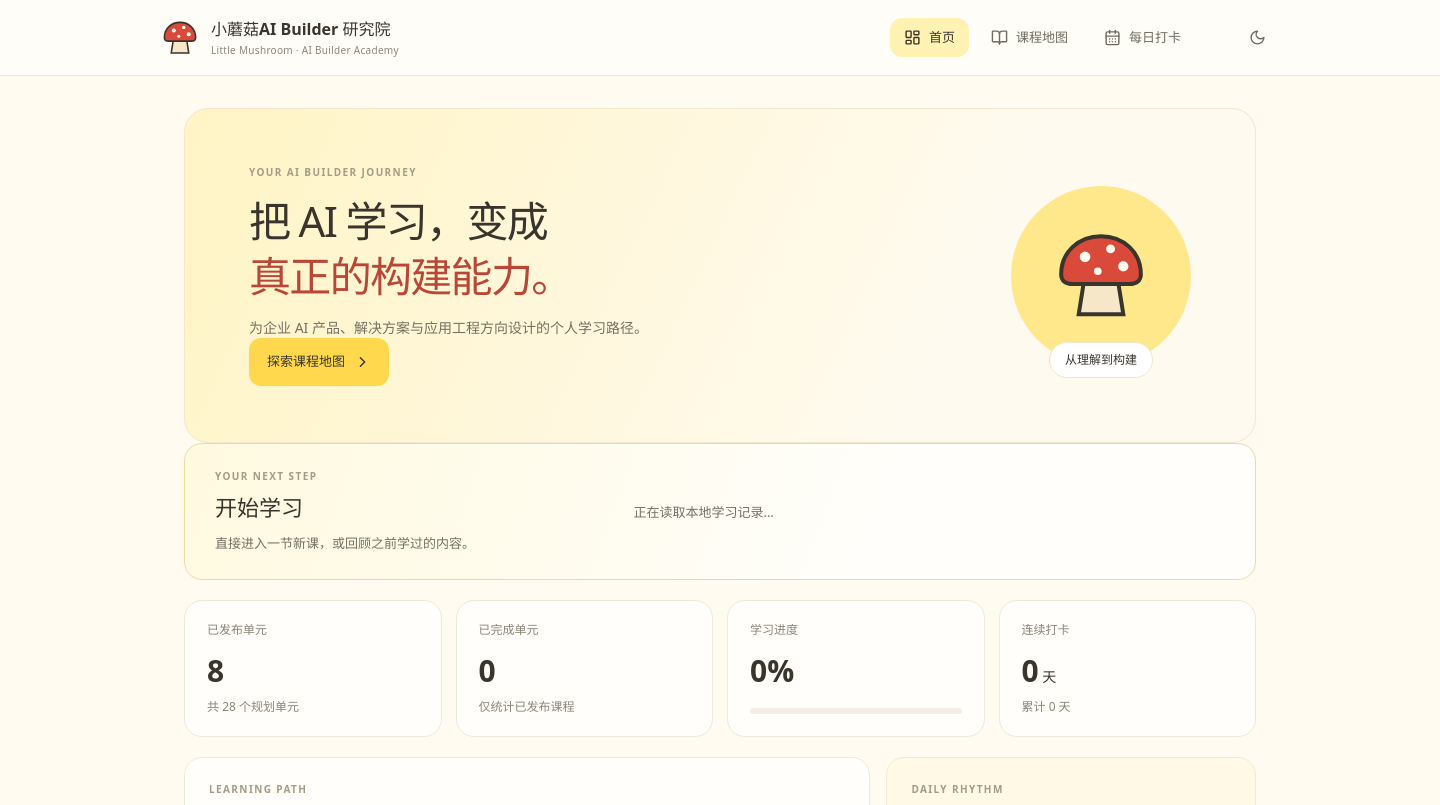
Test: learning and check-in logic › navigates with hash routes to published lesson content
The width and height of the screenshot is (1440, 805).
Click the link "课程地图" at (1030, 37), box [991,28,1068,46]
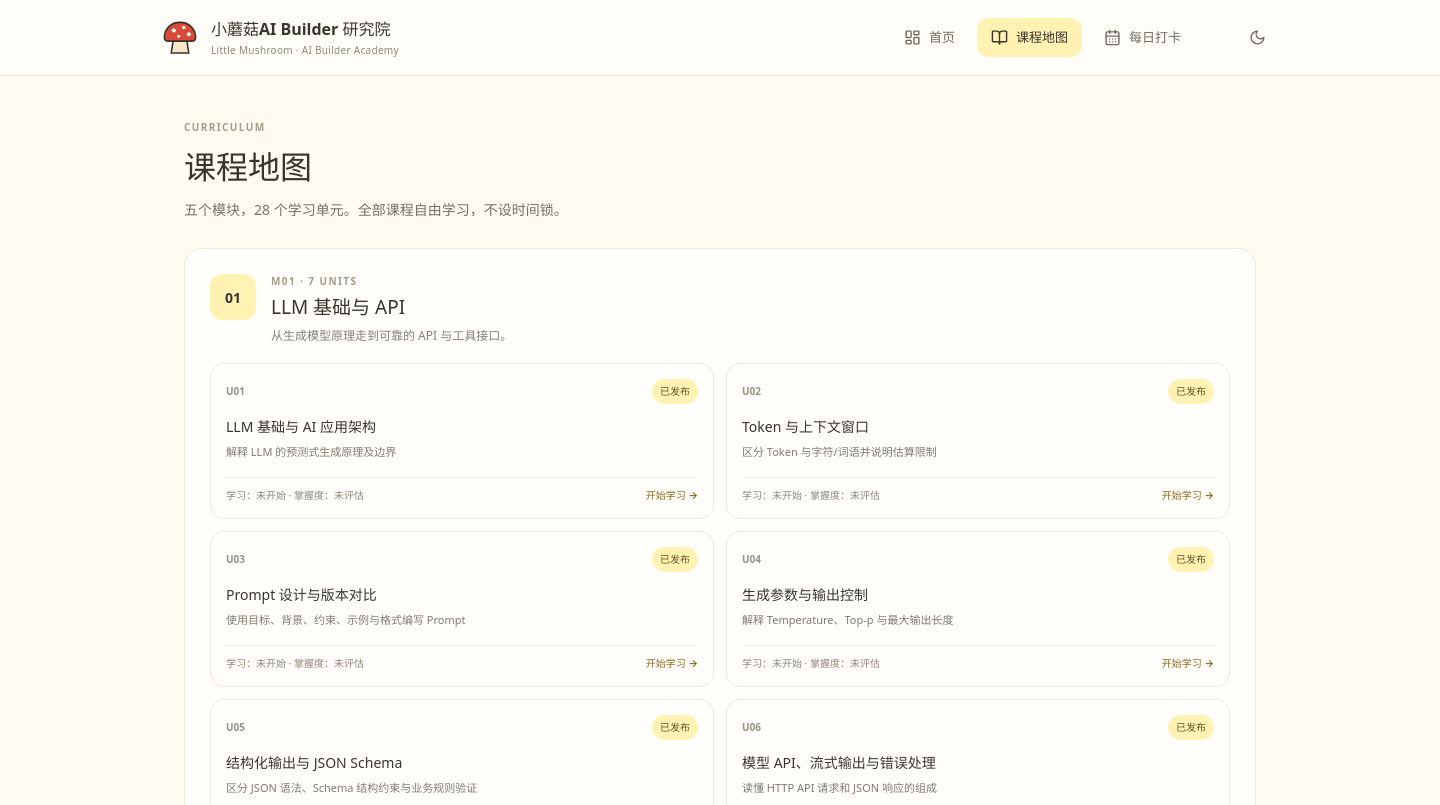
Check: the heading "课程地图" is shown, box [184,145,312,188]
Click the link "开始学习 →" below "解释 LLM 的预测式生成原理及边界" at (672, 495), box [646,488,698,502]
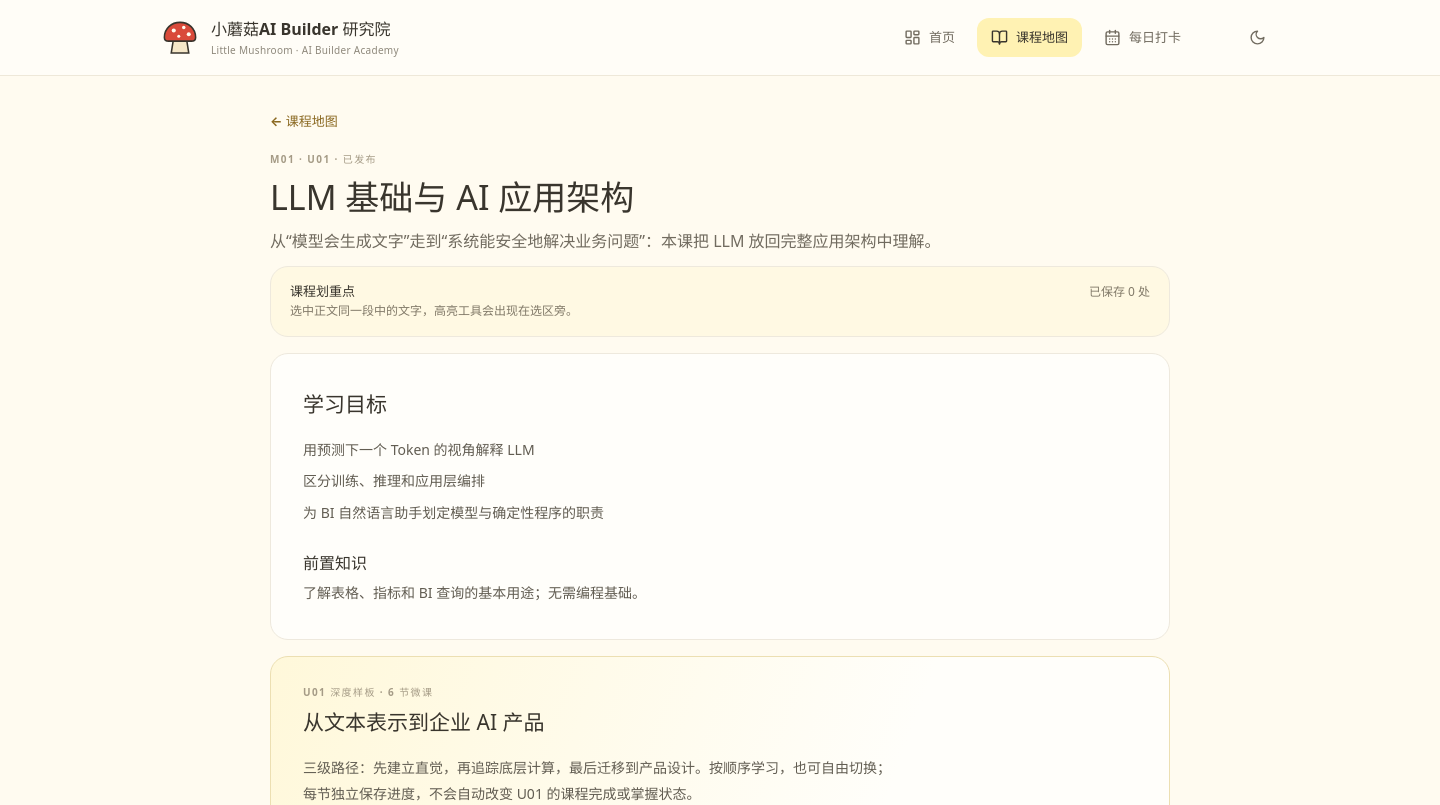
Check: the heading "LLM 基础与 AI 应用架构" is shown, box [270,174,634,220]
